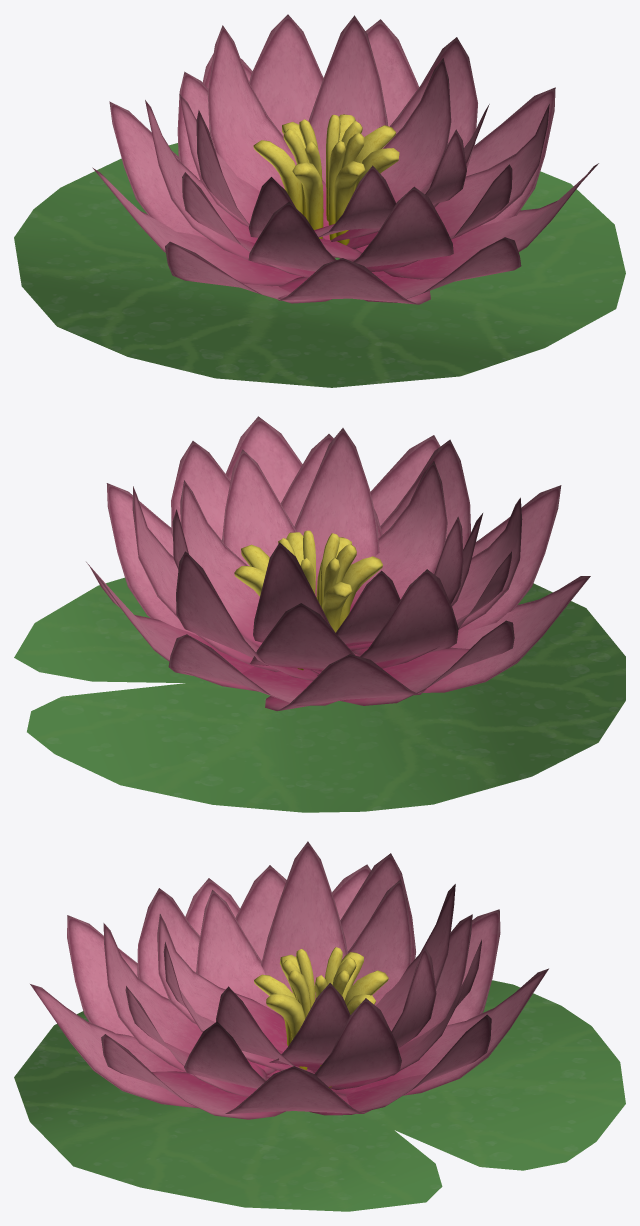
File: waterLily_mod.fbx
3 views of the same model, one above another, from view 1: azimuth 30°, elevation 25°; view 2: azimuth 150°, elevation 25°; view 3: azimuth 270°, elevation 25° (orthographic). The views are drawn at different scales.
Parts seen in each view (by area): view 1: waterLily; view 2: waterLily; view 3: waterLily.
Boxes of the visible parts, bbox=[...] form: waterLily: bbox=[14, 14, 625, 387]; waterLily: bbox=[14, 416, 625, 812]; waterLily: bbox=[14, 841, 625, 1211].
Size of the model in its own units: 2.38 by 0.8224 by 2.41.
